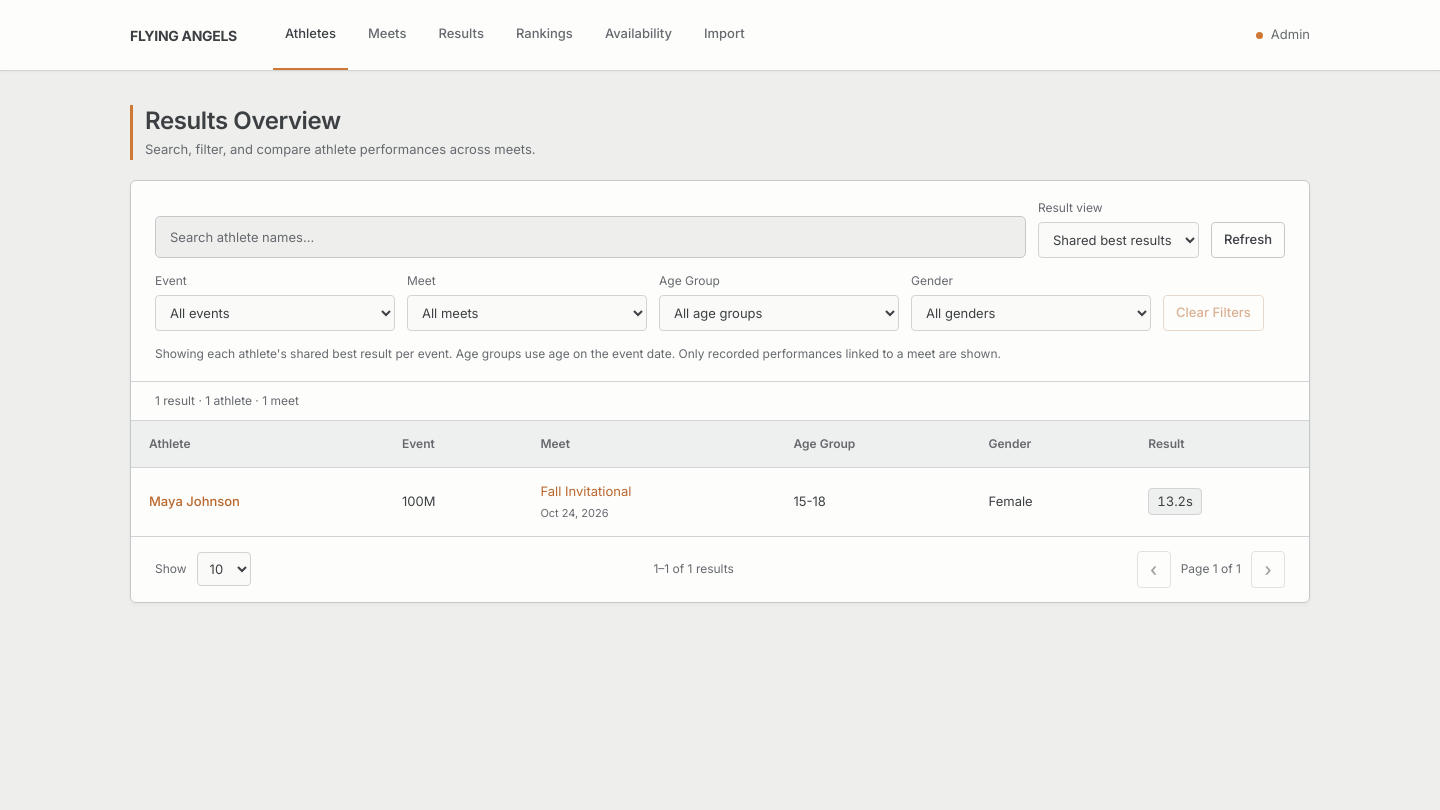
it: shows meet-linked results and filters by athlete name
Expected: the text "13.2s" is shown, left=1148, top=488, right=1202, bottom=515
Type "not present" into the search field at (590,237), box left=155, top=216, right=1026, bottom=258
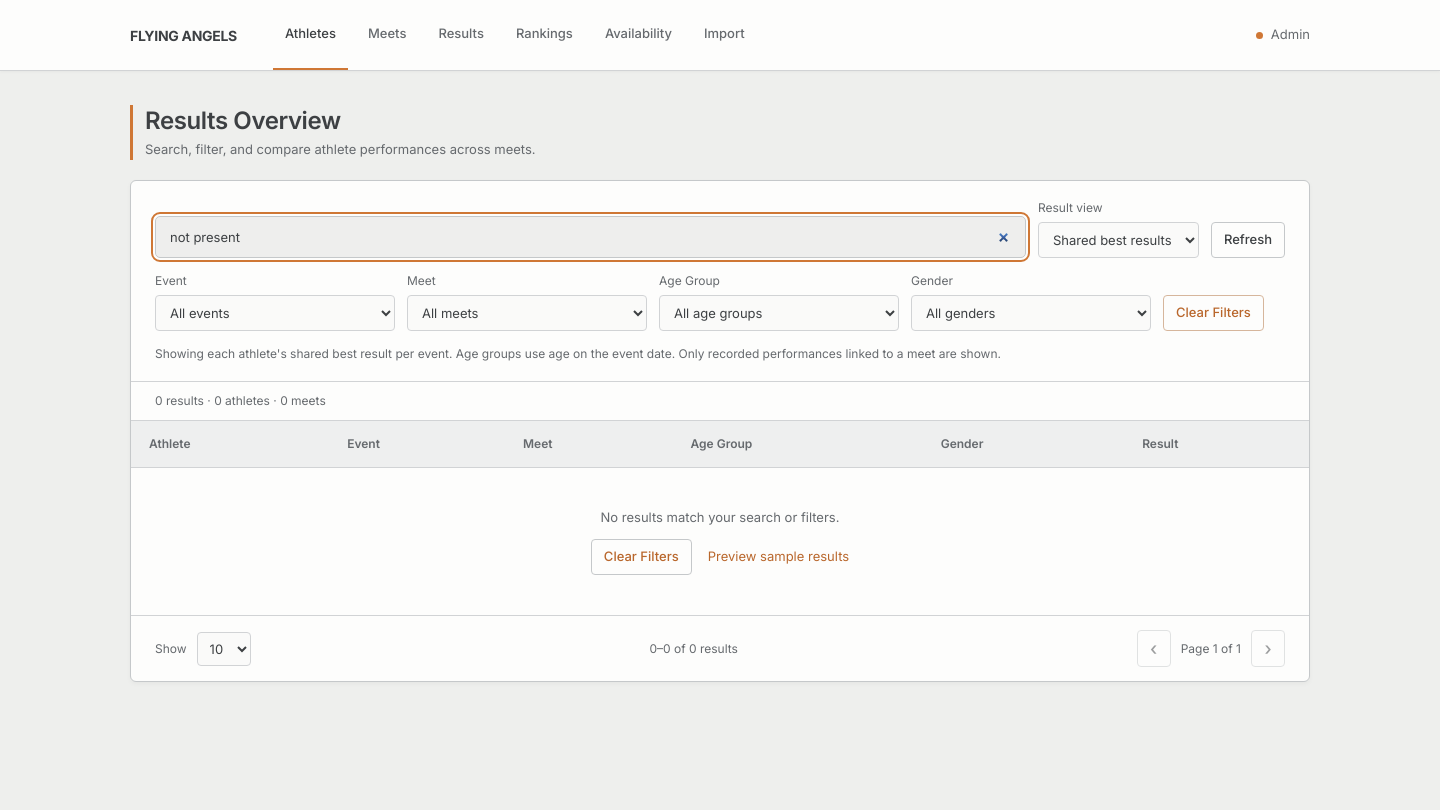
Expected: the text "13.2s" is gone
Click the 1st button "Clear Filters" at (1213,313), box left=1163, top=295, right=1264, bottom=331
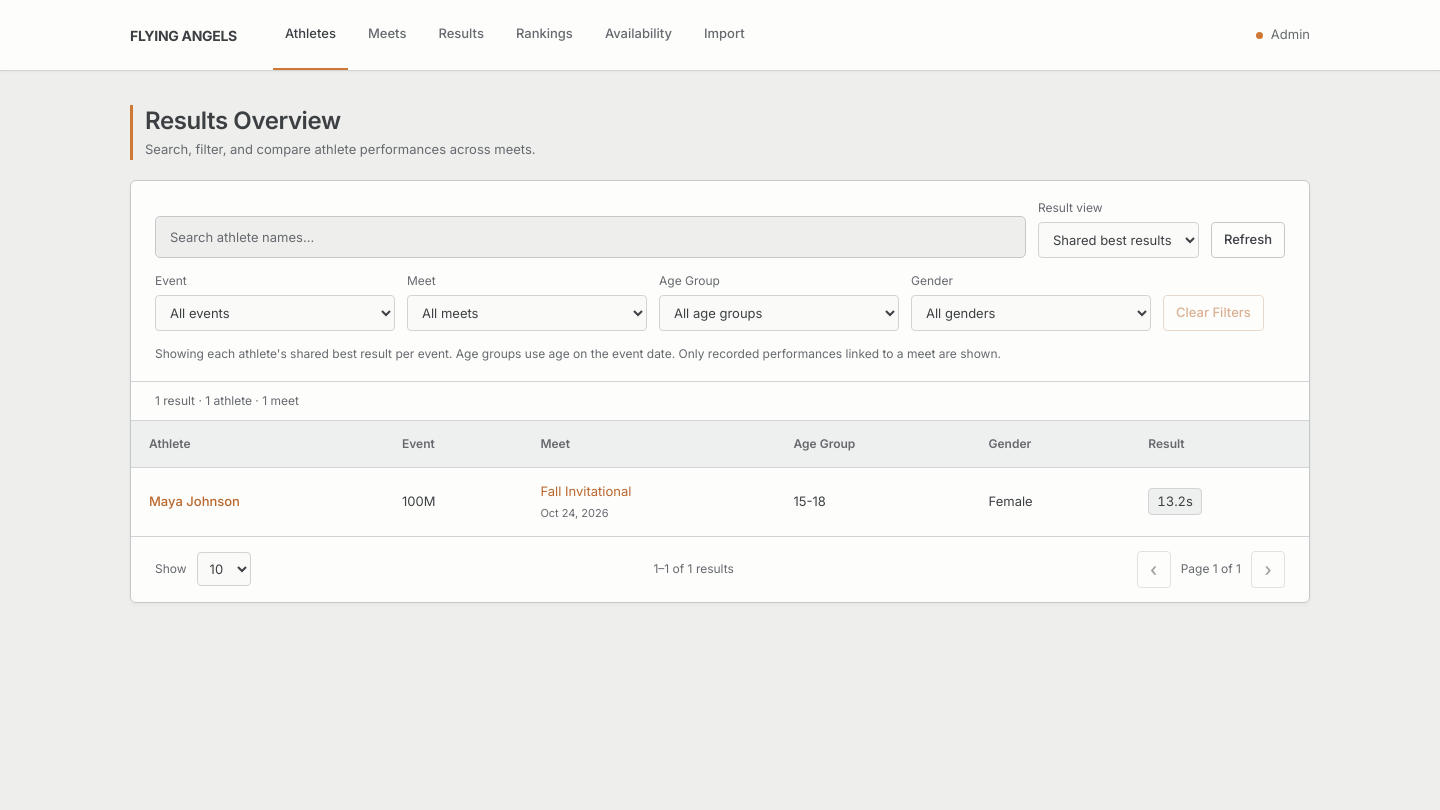
Expected: the text "13.2s" is shown, left=1148, top=488, right=1202, bottom=515
